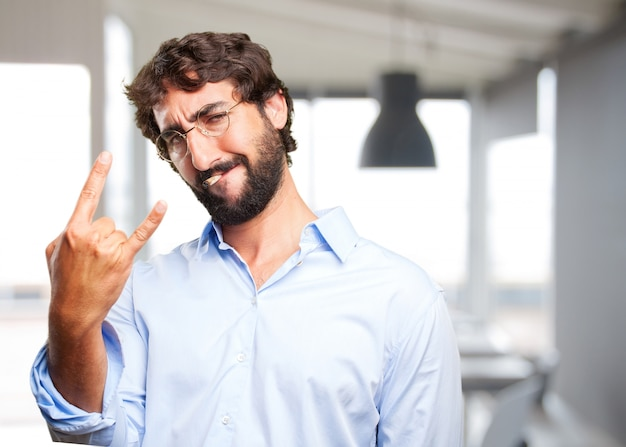cigarette: (200, 170, 223, 190)
